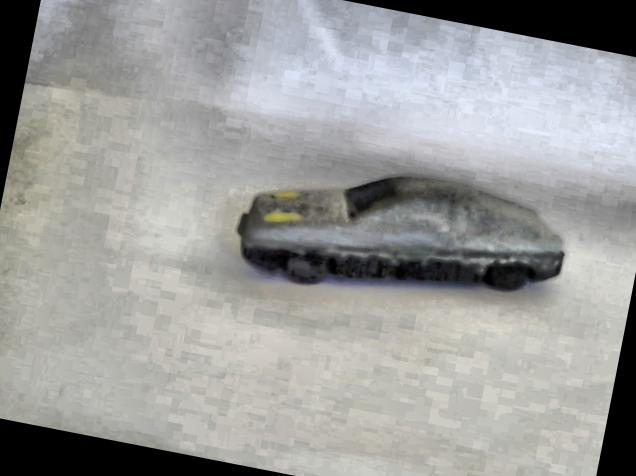normal_car: (220, 134, 579, 338)
